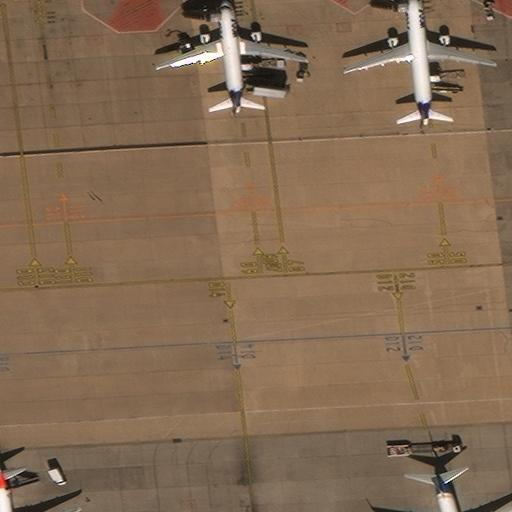Medium Civil Transport: (343, 0, 495, 125), (154, 0, 306, 112), (390, 472, 511, 511), (0, 465, 83, 511)
